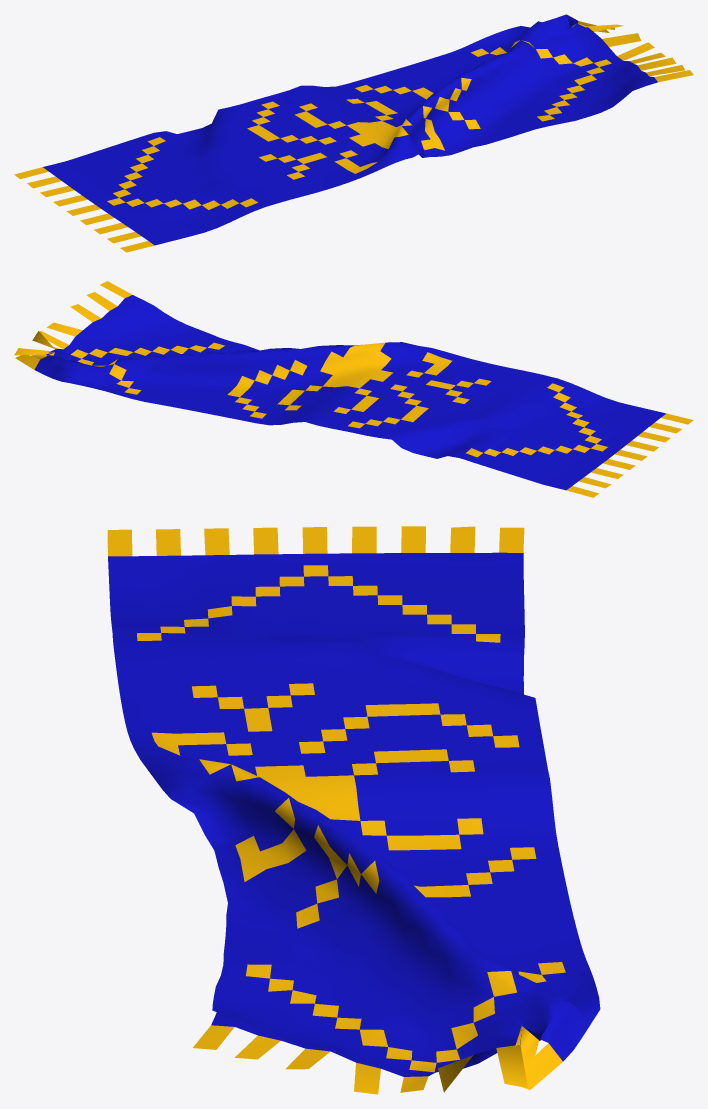
File: Teppich_Symbol_var1.obj
3 views of the same model, one above another, from view 1: azimuth 30°, elevation 25°; view 2: azimuth 150°, elevation 25°; view 3: azimuth 270°, elevation 25° (orthographic). The views are drawn at different scales.
Visible parts, largest first — view 1: Teppich_var3; view 2: Teppich_var3; view 3: Teppich_var3.
Part boxes in pixels (x1=…): Teppich_var3: x1=14, y1=14, x2=693, y2=252; Teppich_var3: x1=14, y1=281, x2=693, y2=497; Teppich_var3: x1=107, y1=526, x2=600, y2=1094.
Size of the model in its own units: 2.19 by 0.137 by 0.799.
